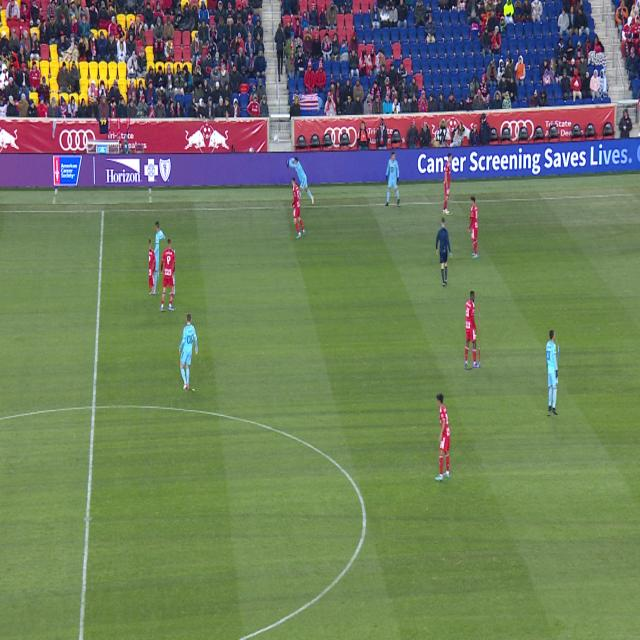football: (274, 135, 278, 143)
player: (287, 157, 314, 206), (435, 394, 450, 480), (180, 314, 197, 389), (150, 222, 165, 294), (160, 239, 175, 311), (466, 292, 479, 368), (547, 331, 558, 415), (291, 177, 305, 238), (385, 152, 400, 206), (468, 197, 478, 258), (443, 154, 452, 214)
referee: (436, 218, 452, 285)
